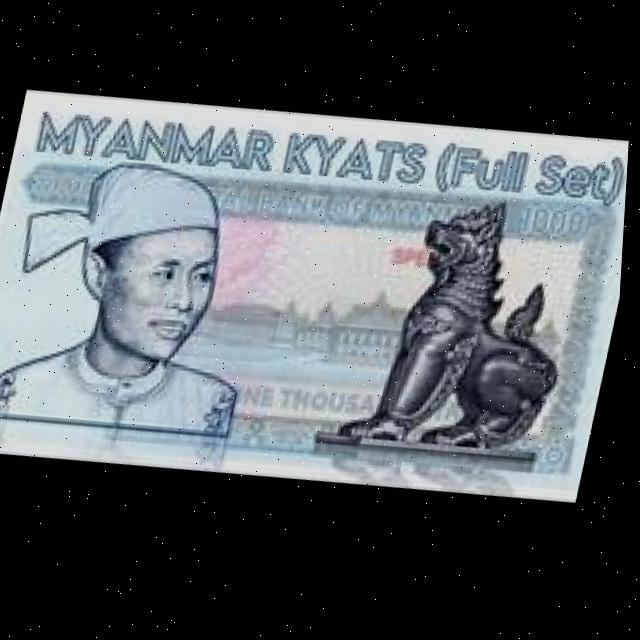banknote: (0, 49, 636, 547)
